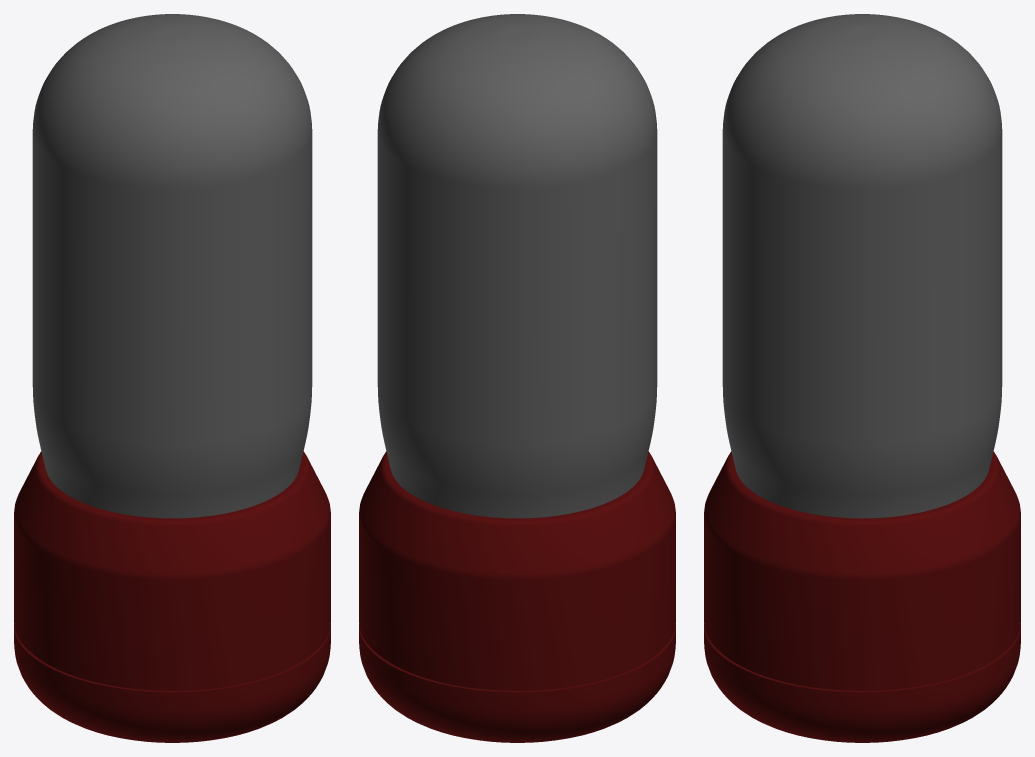
Rendered from Lamp.obj.
The picture shows the model from 3 angles, left to right: view 1: azimuth 30°, elevation 25°; view 2: azimuth 150°, elevation 25°; view 3: azimuth 270°, elevation 25°; orthographic projection.
Visible parts, largest first — view 1: 003_Lamp_-_Glass_-_baked, 000_Lamp_-_Base_-_baked; view 2: 003_Lamp_-_Glass_-_baked, 000_Lamp_-_Base_-_baked; view 3: 003_Lamp_-_Glass_-_baked, 000_Lamp_-_Base_-_baked.
Boxes of the visible parts, x1,y1,x2,y2 form: 003_Lamp_-_Glass_-_baked: (32, 14, 312, 518); 000_Lamp_-_Base_-_baked: (14, 451, 330, 742); 003_Lamp_-_Glass_-_baked: (377, 14, 657, 518); 000_Lamp_-_Base_-_baked: (359, 451, 675, 742); 003_Lamp_-_Glass_-_baked: (722, 14, 1002, 518); 000_Lamp_-_Base_-_baked: (704, 451, 1020, 742).
Bounding box in the file's own units: 76 × 175 × 76.
